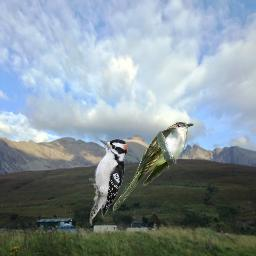Cuckoo: (111, 121, 194, 214)
Woodpecker: (89, 135, 131, 226)
